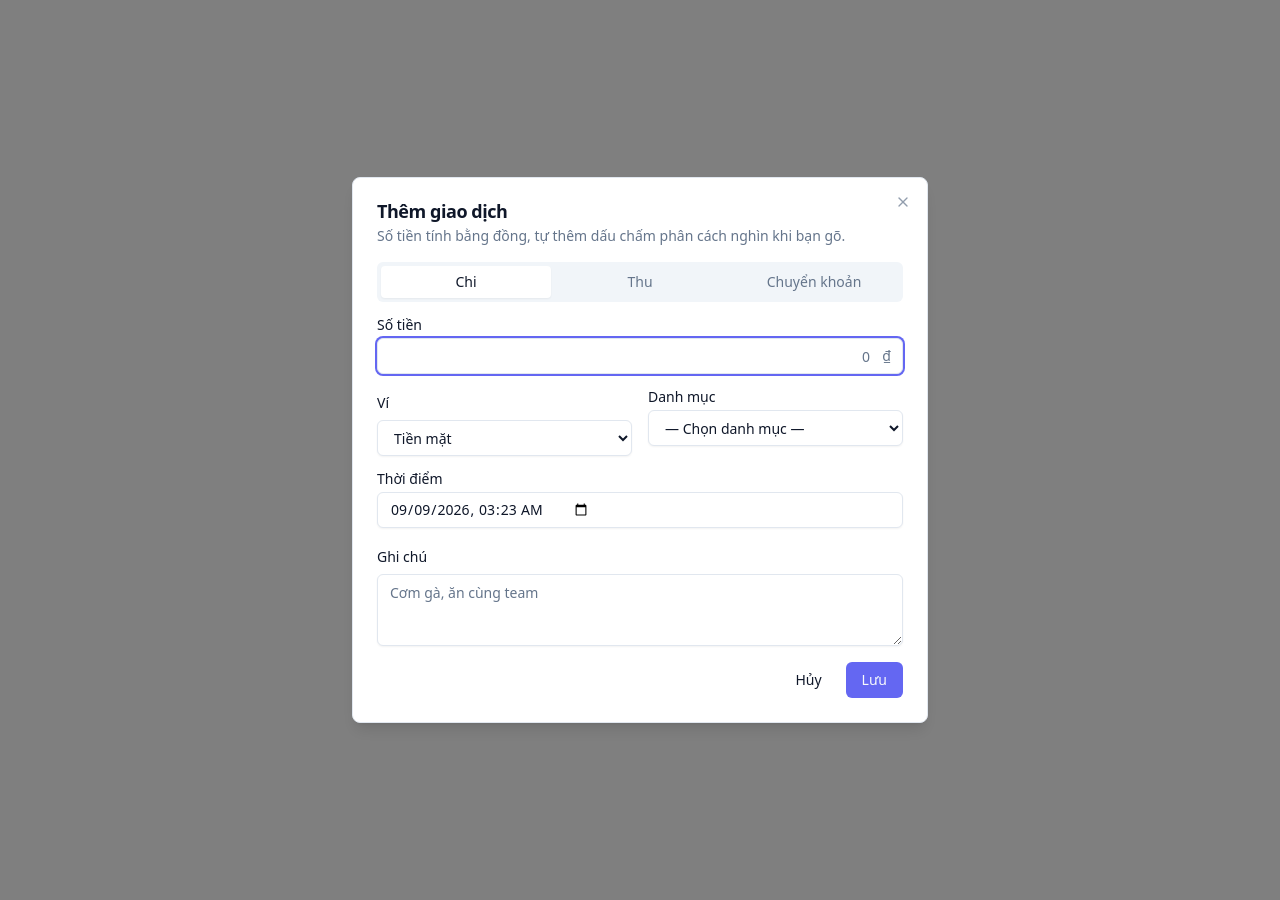
Test case: TransactionFormDialog › UC-06 E2 — chuyển khoản cùng một ví bị chặn trước khi gọi API
Expected: the field labelled "Số tiền" is shown, [377,338,903,374]
Click the radio button labelled "Chuyển khoản". click: (814, 282)
box: [729,266,899,298]
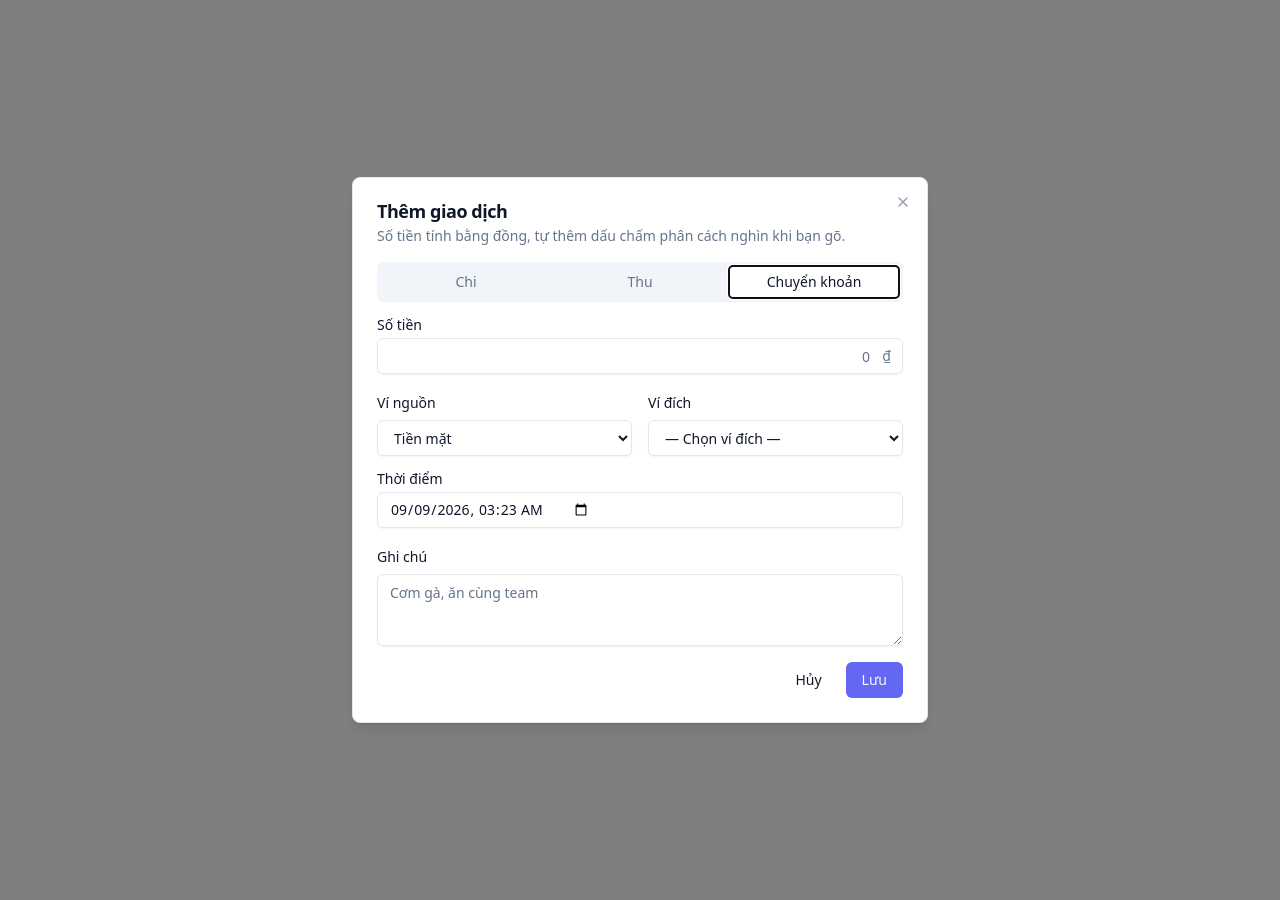
Type "100000" into the field labelled "Số tiền". click: (640, 356)
box: [377,338,903,374]
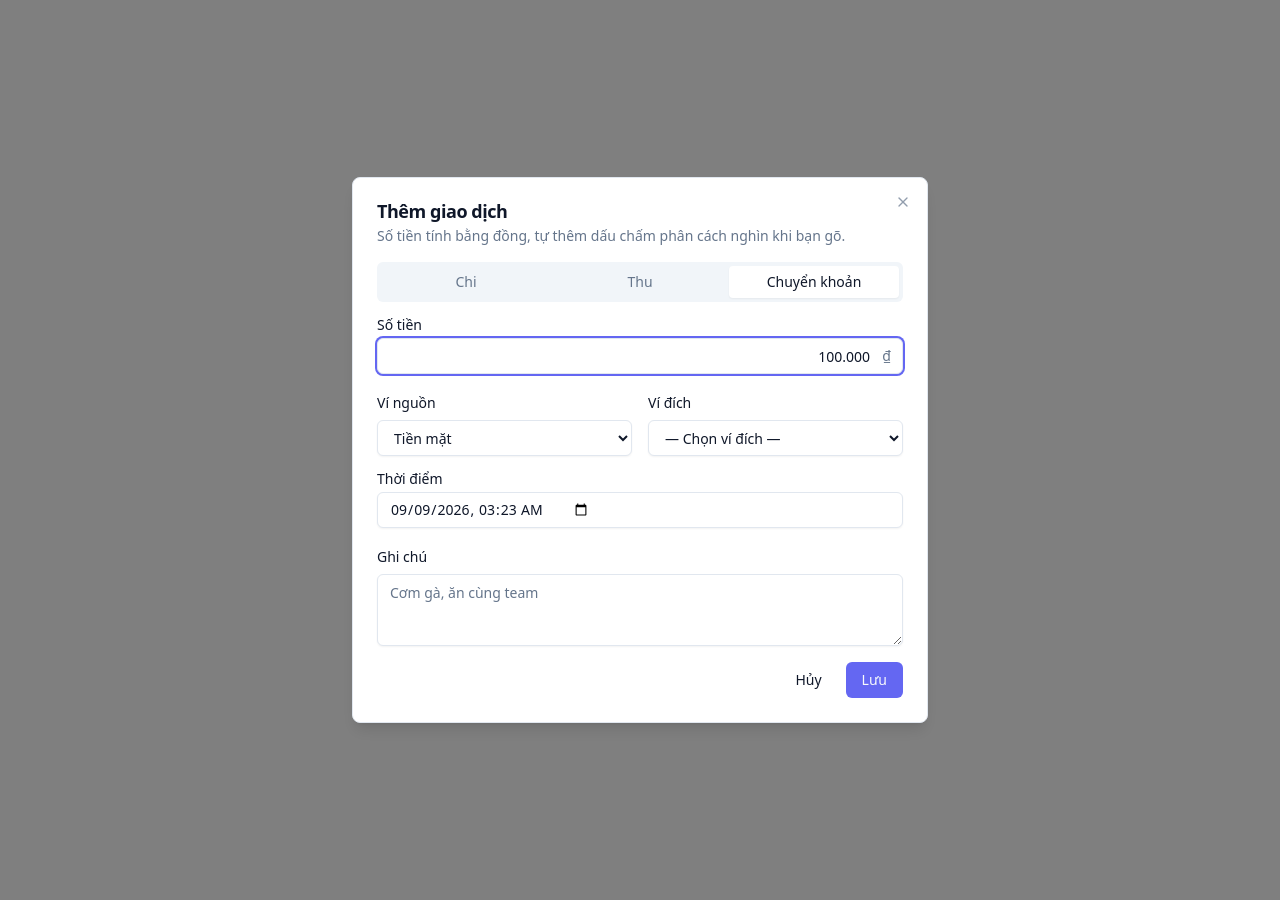
Select "Tiền mặt" in the dropdown labelled "Ví nguồn". click: (504, 438)
box: [377,420,632,456]
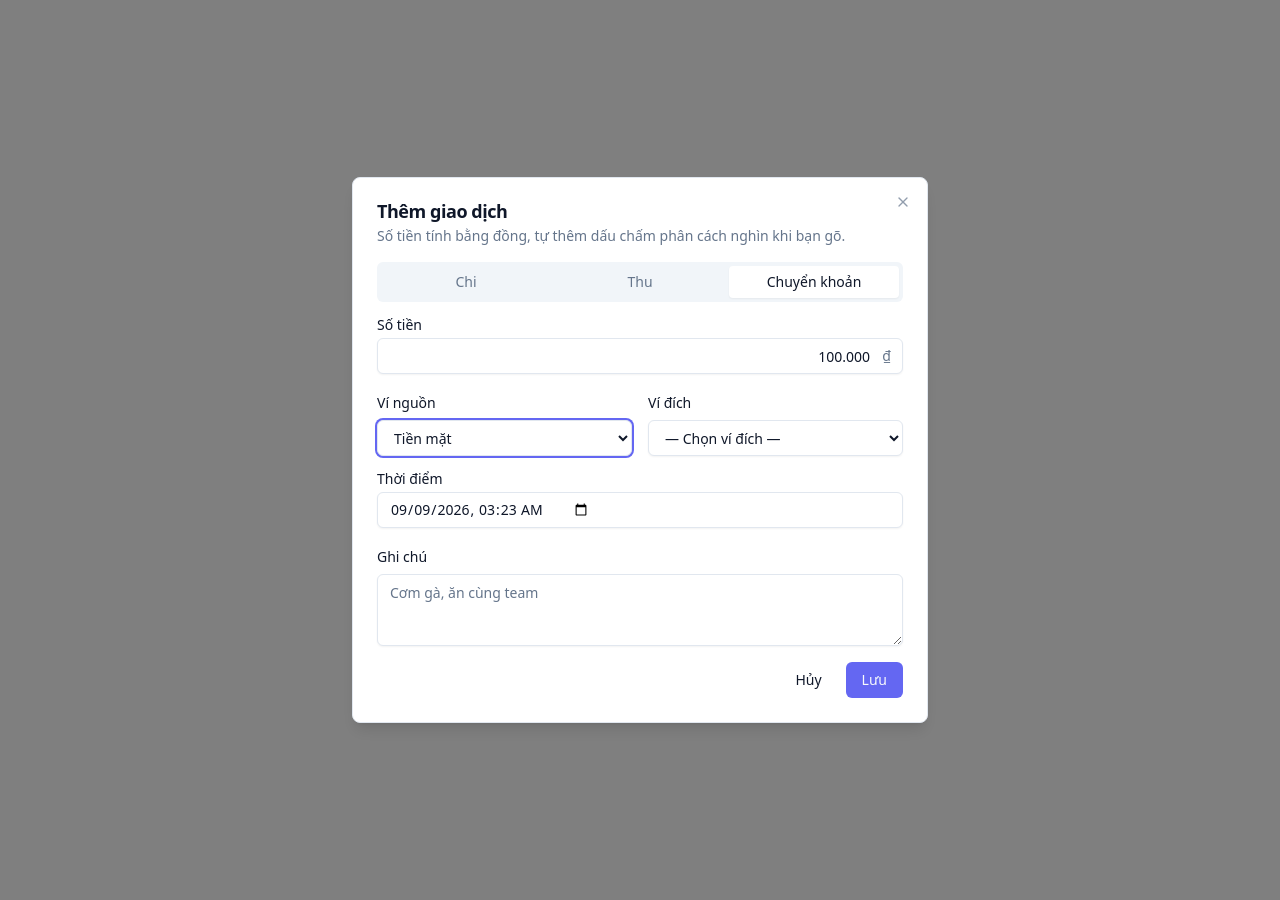
Select "Tiền mặt" in the dropdown labelled "Ví đích". click: (776, 438)
box: [648,420,903,456]
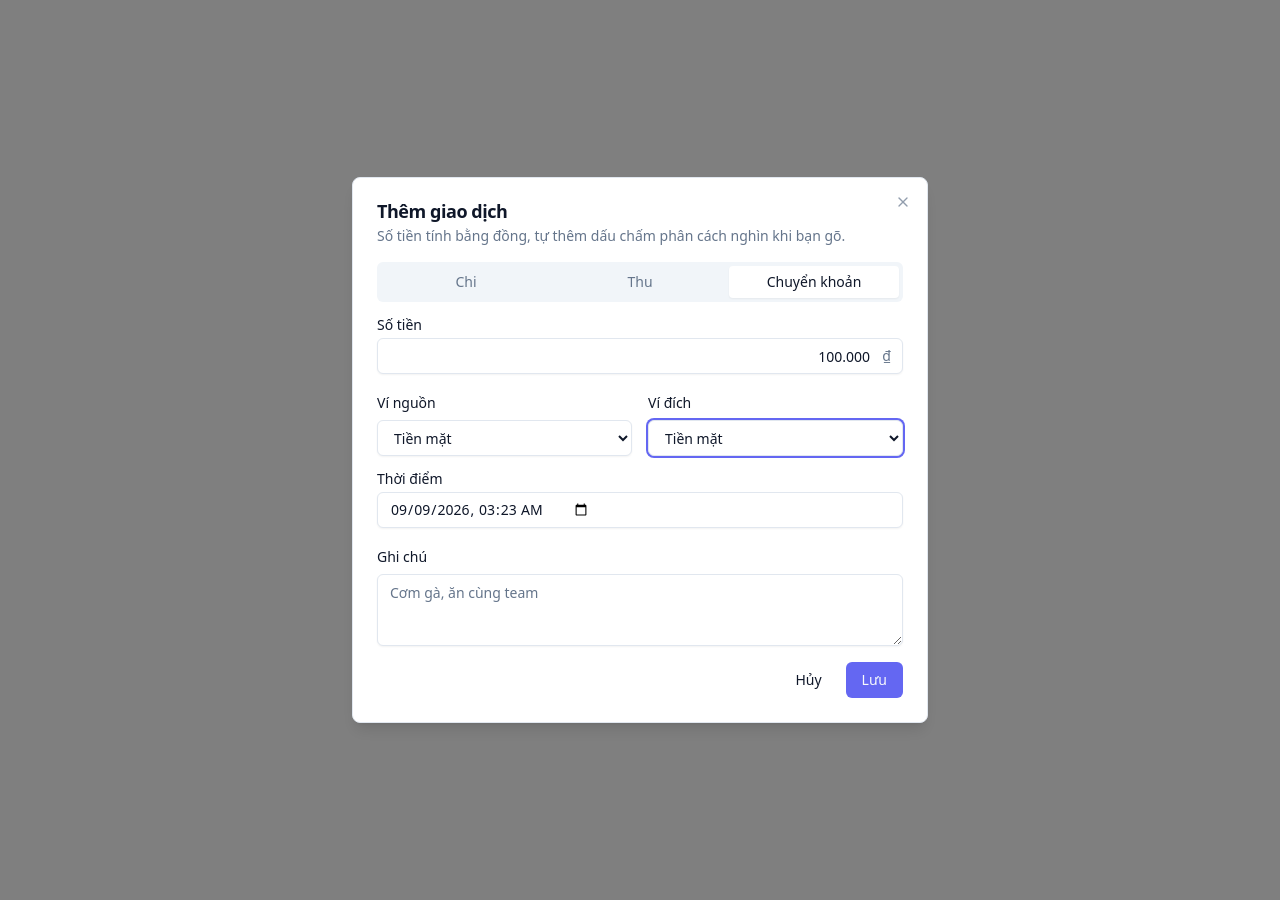
Click the button "Lưu". click: (874, 680)
box: [846,662,903,698]
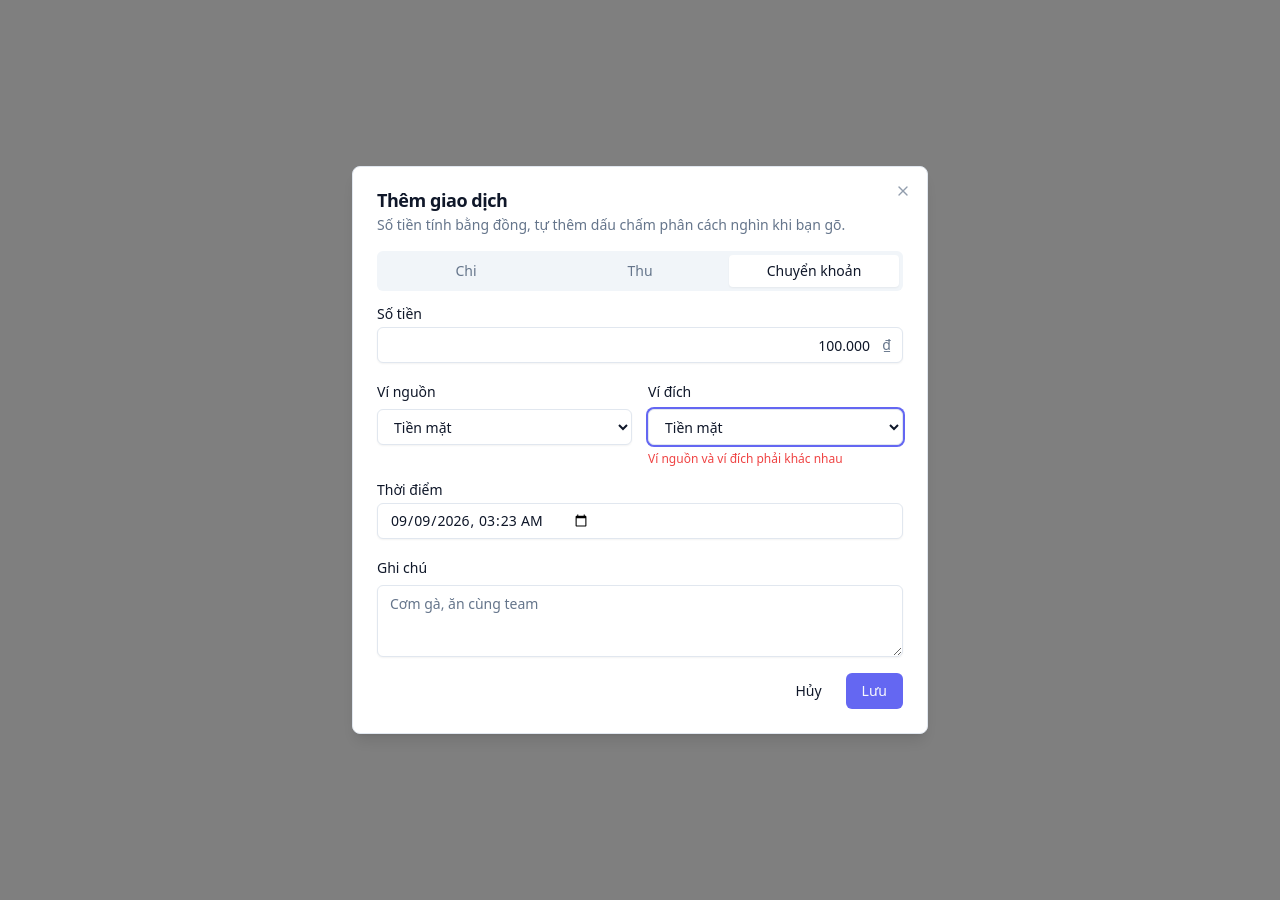
Now the text "Ví nguồn và ví đích phải khác nhau" is shown, box [648,450,843,467]
